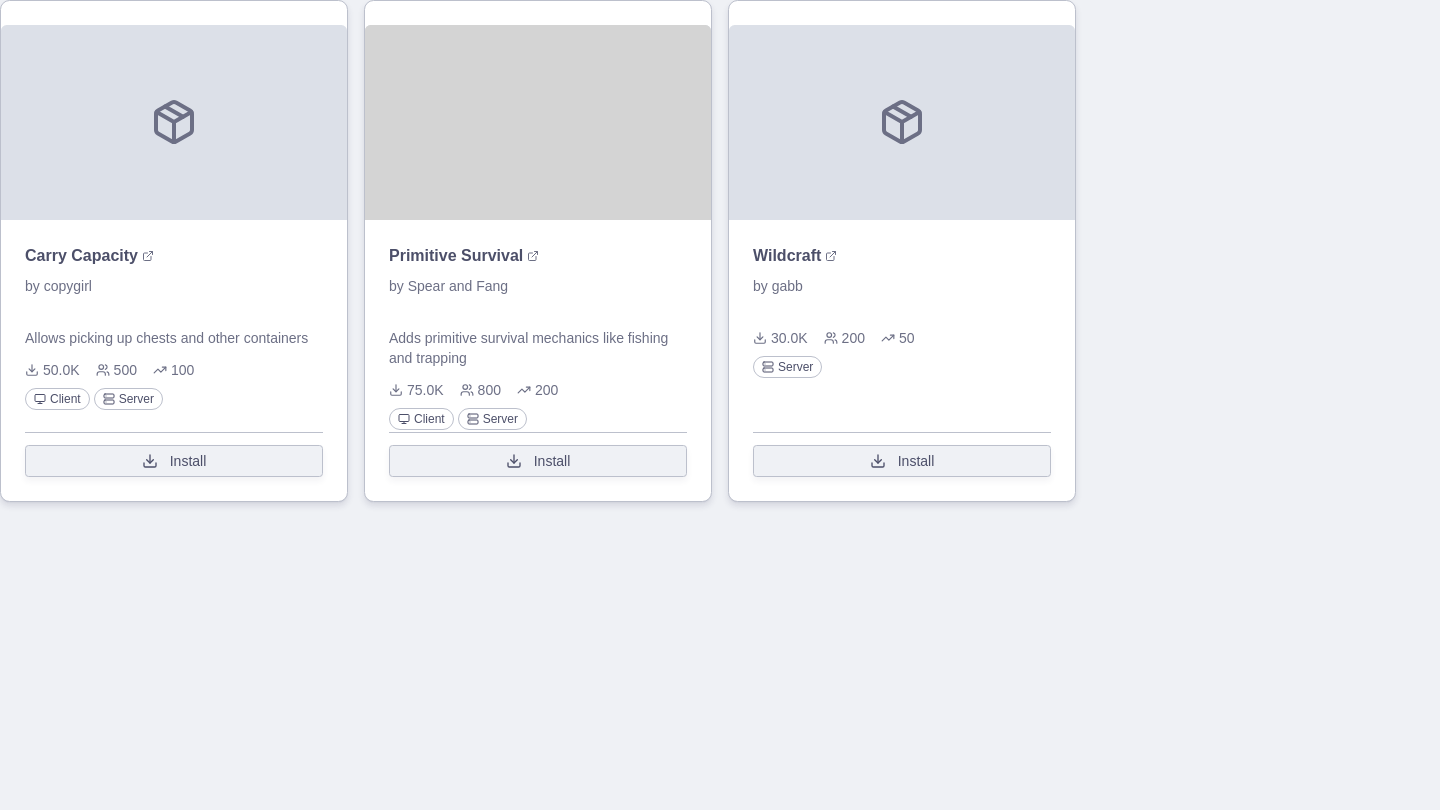
it: ModBrowseGrid › error handling (F12) › handles useModDetail error gracefully in grid context
Note: Click install button
Click the button with test id "mod-card-install-carrycapacity".
click(174, 461)  # box [25,445,323,477]
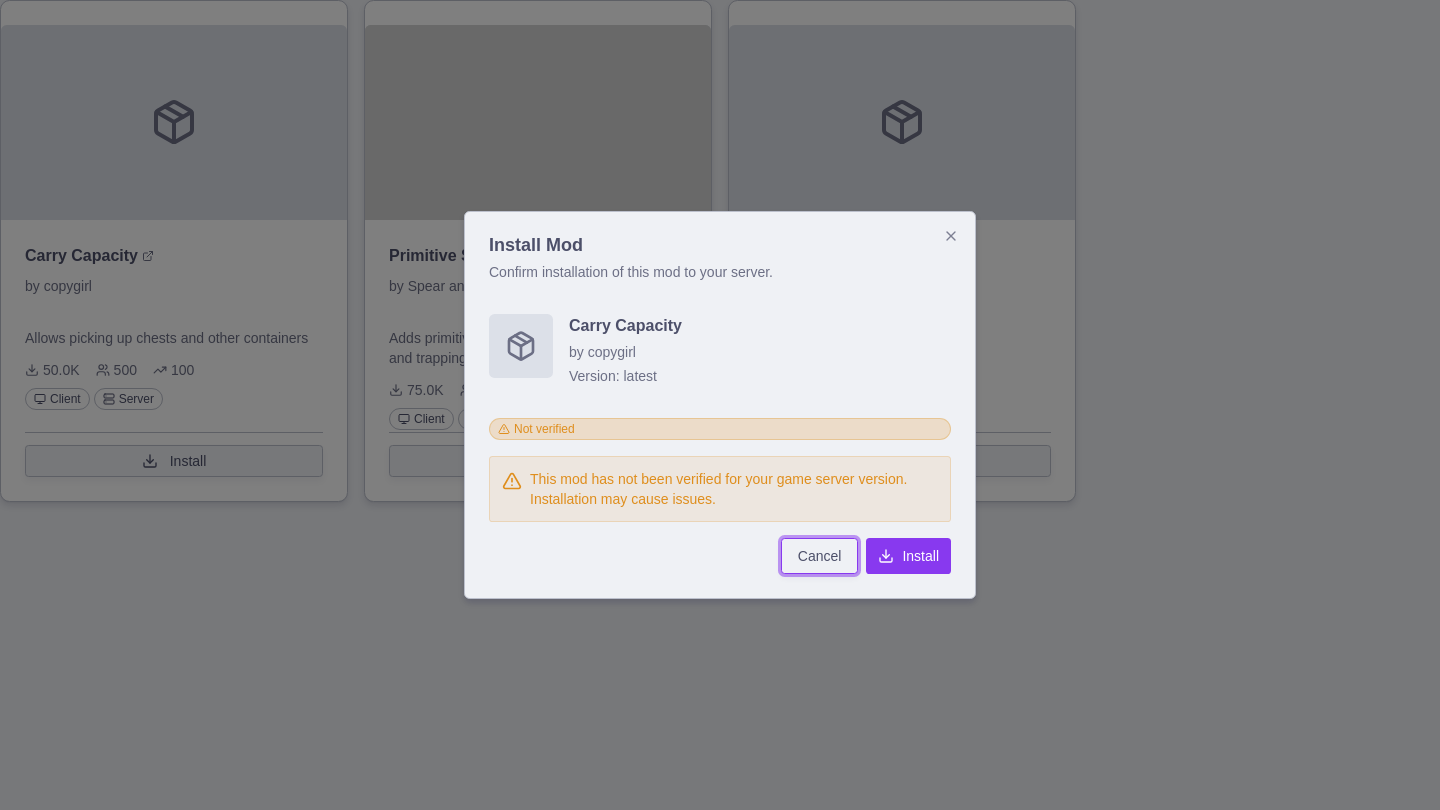
Expected: the dialog with test id "install-confirm-dialog" is shown, [464,211,976,599]
Expected: the element with test id "install-dialog-warning" is shown, [489,456,951,522]
